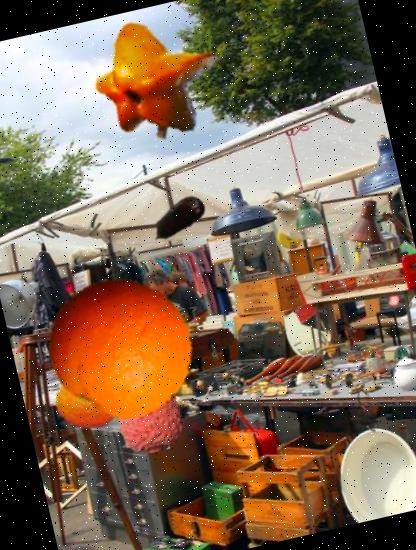Carambula: (83, 10, 226, 153)
Eggplant: (140, 181, 216, 257)
Lychee: (102, 364, 198, 460)
Mandarine: (50, 360, 128, 438)
Orange: (35, 260, 207, 432)
